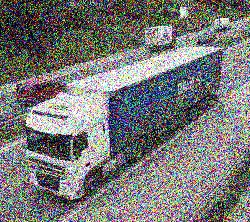truck: (26, 47, 222, 201), (16, 75, 67, 108), (144, 23, 179, 52)
